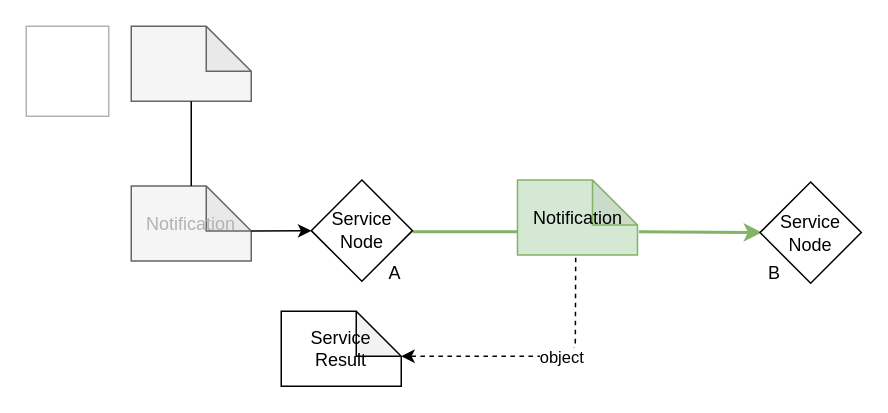
Image size: 888x413. Some labels were removed from this diagram. The centre of each missing label's shape, as x and y in pixels:
"Artifact" goes at [190,63].
"Data node" goes at [67,70].
